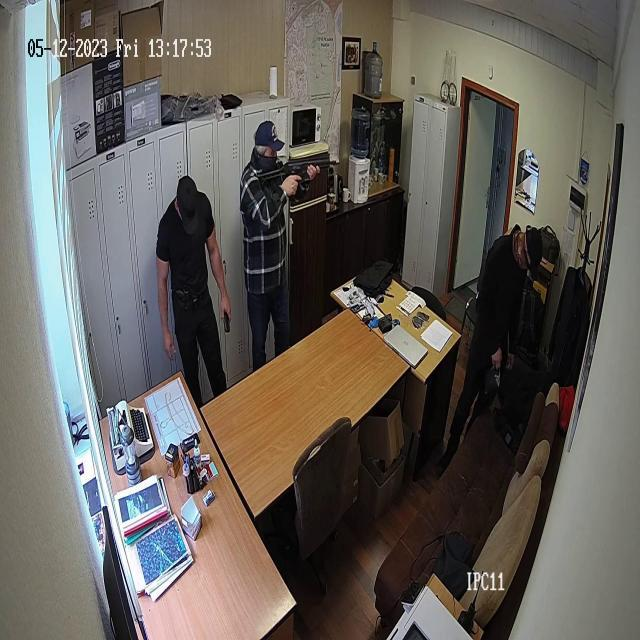pistol: (257, 151, 337, 187)
